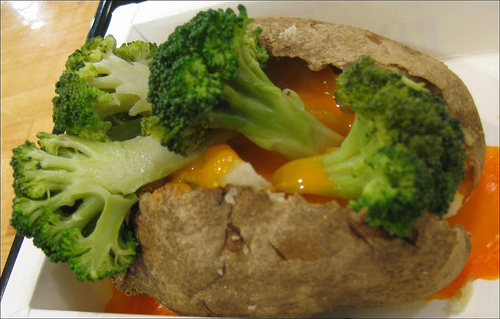broccoli: (11, 132, 190, 280), (148, 2, 318, 157), (336, 55, 464, 241), (49, 31, 160, 141)
